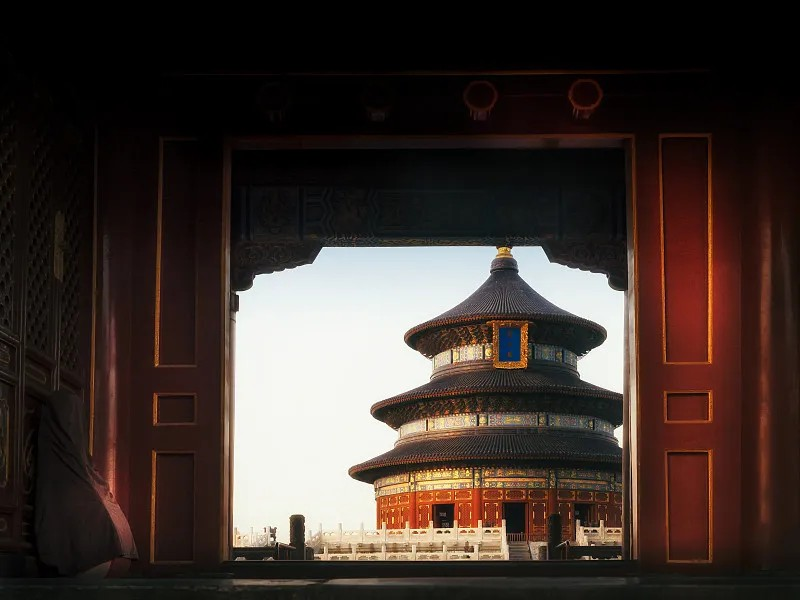Heaven: (347, 247, 622, 541)
